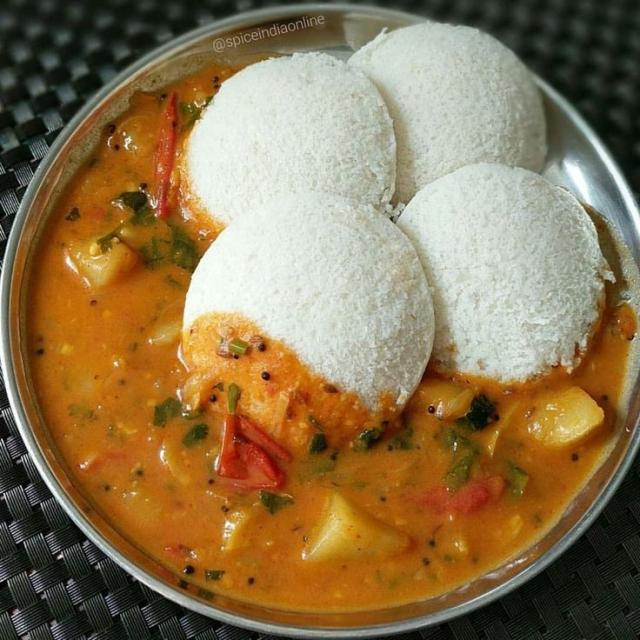idly: (399, 164, 619, 392), (188, 207, 427, 411), (330, 15, 555, 217), (204, 51, 402, 233)
sambar: (28, 59, 621, 610)
